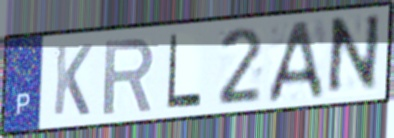2: (214, 25, 266, 108)
A: (264, 17, 327, 106)
K: (51, 41, 95, 118)
L: (164, 31, 204, 111)
N: (323, 10, 383, 101)
R: (100, 36, 157, 118)
